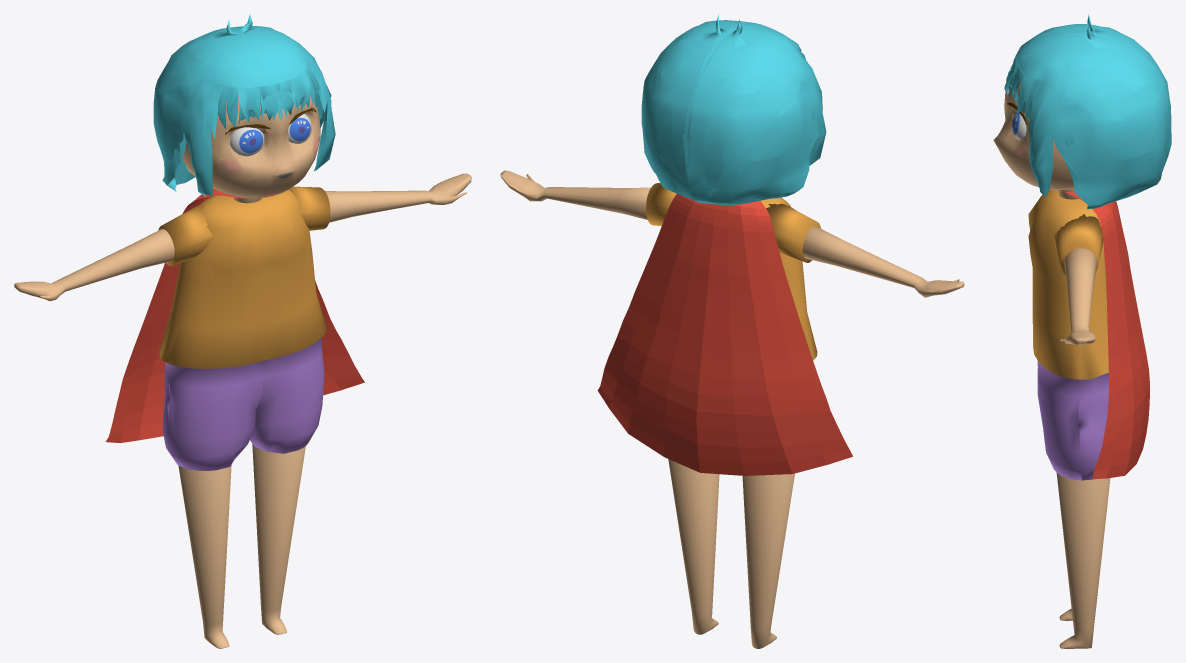
The picture shows the model from 3 angles, left to right: view 1: azimuth 30°, elevation 25°; view 2: azimuth 150°, elevation 25°; view 3: azimuth 270°, elevation 25°; orthographic projection.
Visible parts, largest first — view 1: Body, Hear, RReg, mant, Head, RArm, Eye; view 2: mant, Hear, RReg, RArm, Body; view 3: Hear, Body, mant, RReg, Head, RArm, Eye.
Part boxes in pixels (box(x1,y1,x2,y2)): Body: box(158, 186, 330, 470); Hear: box(153, 14, 335, 197); RReg: box(178, 444, 305, 648); mant: box(105, 188, 364, 442); Head: box(182, 92, 320, 198); RArm: box(14, 173, 471, 300); Eye: box(230, 113, 311, 156); mant: box(597, 194, 852, 475); Hear: box(641, 14, 826, 205); RReg: box(668, 459, 794, 648); RArm: box(500, 170, 964, 297); Body: box(646, 183, 820, 360); Hear: box(1004, 14, 1171, 209); Body: box(1028, 189, 1108, 480); mant: box(1060, 190, 1149, 478); RReg: box(1056, 473, 1110, 648); Head: box(993, 77, 1073, 190); RArm: box(1060, 248, 1097, 345); Eye: box(1012, 112, 1026, 140).
Bounding box in the file's own units: 334 × 431 × 114.
